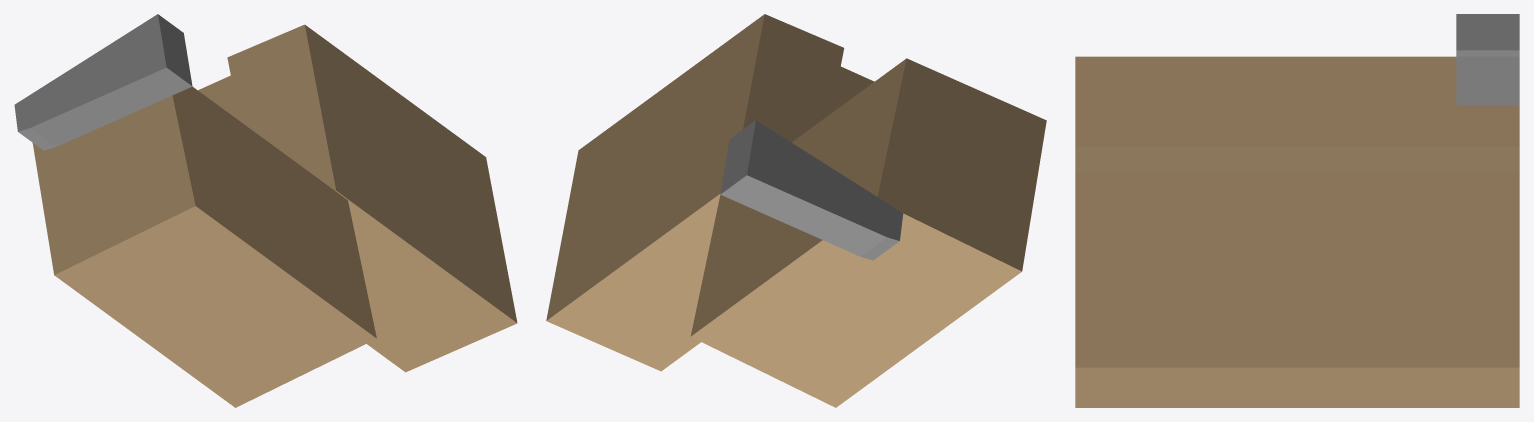
The picture shows the model from 3 angles, left to right: view 1: azimuth 30°, elevation 25°; view 2: azimuth 150°, elevation 25°; view 3: azimuth 270°, elevation 25°; orthographic projection. The views are drawn at different scales.
Visible parts, largest first — view 1: 0_3_0_1_1_1_0_3_0_2; view 2: 0_3_0_1_1_1_0_3_0_2; view 3: 0_3_0_1_1_1_0_3_0_2.
Part boxes in pixels (<box>): 0_3_0_1_1_1_0_3_0_2: <box>14,14,517,407</box>; 0_3_0_1_1_1_0_3_0_2: <box>546,14,1046,407</box>; 0_3_0_1_1_1_0_3_0_2: <box>1075,14,1519,407</box>.
Size of the model in its own units: 21.51 by 15.46 by 21.
